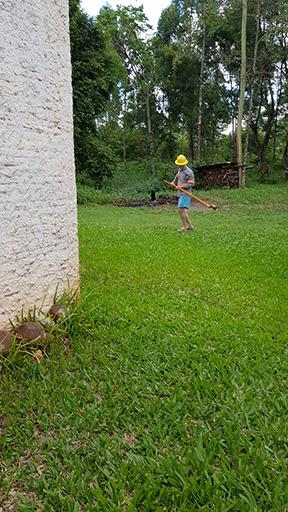Vara_Manobra: (160, 178, 211, 207)
